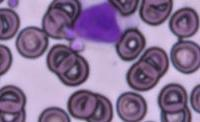L: (70, 0, 126, 45)
